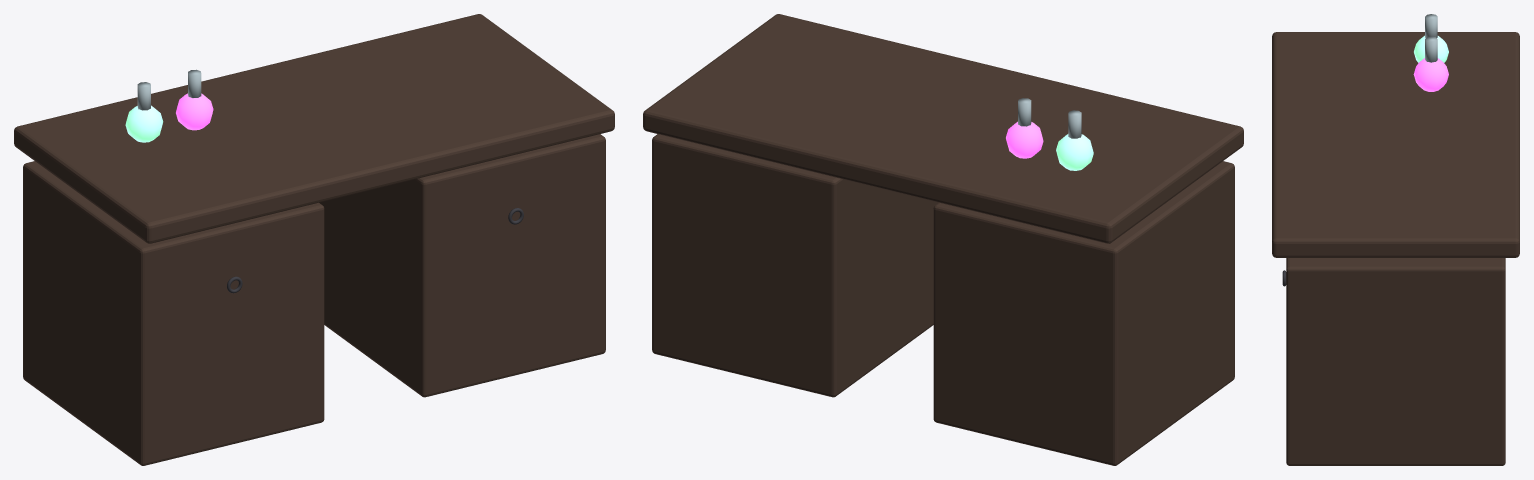
Rendered from desk_alchemist.glb.
3 renders of one model, left to right at view 1: azimuth 30°, elevation 25°; view 2: azimuth 150°, elevation 25°; view 3: azimuth 270°, elevation 25°, orthographic. The views are drawn at different scales.
Parts seen in each view (by area): view 1: GD_desk_alchemist__m0, GD_desk_alchemist__m2, GD_desk_alchemist__m4, GD_desk_alchemist__m3; view 2: GD_desk_alchemist__m0, GD_desk_alchemist__m2, GD_desk_alchemist__m4, GD_desk_alchemist__m3; view 3: GD_desk_alchemist__m0, GD_desk_alchemist__m4, GD_desk_alchemist__m3, GD_desk_alchemist__m2.
Part boxes in pixels (x1,y1,x2,y2): GD_desk_alchemist__m0: (14, 14, 614, 465); GD_desk_alchemist__m2: (125, 105, 163, 142); GD_desk_alchemist__m4: (176, 93, 213, 130); GD_desk_alchemist__m3: (137, 69, 201, 110); GD_desk_alchemist__m0: (643, 14, 1243, 465); GD_desk_alchemist__m2: (1056, 134, 1093, 170); GD_desk_alchemist__m4: (1006, 121, 1043, 158); GD_desk_alchemist__m3: (1018, 98, 1081, 138); GD_desk_alchemist__m0: (1272, 32, 1519, 465); GD_desk_alchemist__m4: (1413, 58, 1448, 91); GD_desk_alchemist__m3: (1425, 14, 1437, 62); GD_desk_alchemist__m2: (1414, 35, 1448, 62).
Size of the model in its own units: 1.4 by 0.87 by 0.7.
